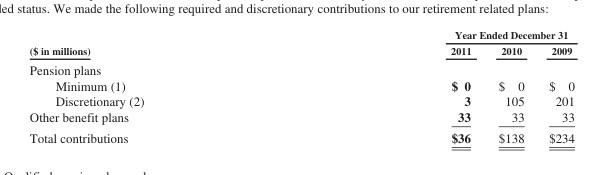table: (28, 28, 574, 144)
table column: (28, 28, 296, 144), (296, 28, 484, 144), (484, 28, 535, 144), (535, 28, 574, 144)
table column header: (28, 28, 574, 59)
table projected row header: (28, 59, 574, 77)
table row: (28, 59, 574, 77), (28, 108, 574, 126), (28, 126, 574, 144), (28, 42, 574, 59), (28, 77, 574, 93), (28, 93, 574, 108), (28, 28, 574, 42)
table spanning cell: (28, 28, 296, 59), (296, 28, 574, 42)
